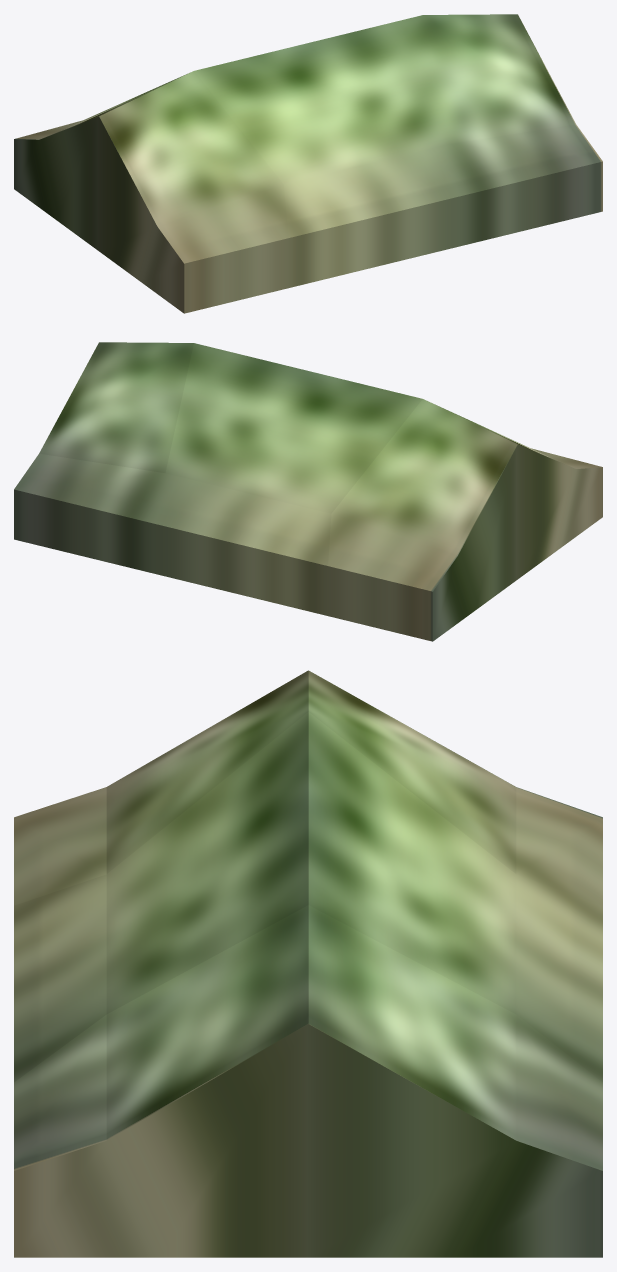
The model's file is ArmyTent.fbx.
3 renders of one model, top to bottom at view 1: azimuth 30°, elevation 25°; view 2: azimuth 150°, elevation 25°; view 3: azimuth 270°, elevation 25°, orthographic. The views are drawn at different scales.
Visible parts, largest first — view 1: Plane.001; view 2: Plane.001; view 3: Plane.001.
Part boxes in pixels (bbox=[...]): Plane.001: bbox=[14, 14, 602, 313]; Plane.001: bbox=[14, 342, 602, 641]; Plane.001: bbox=[14, 670, 602, 1257].
Bounding box in the file's own units: 284 × 102 × 200.
